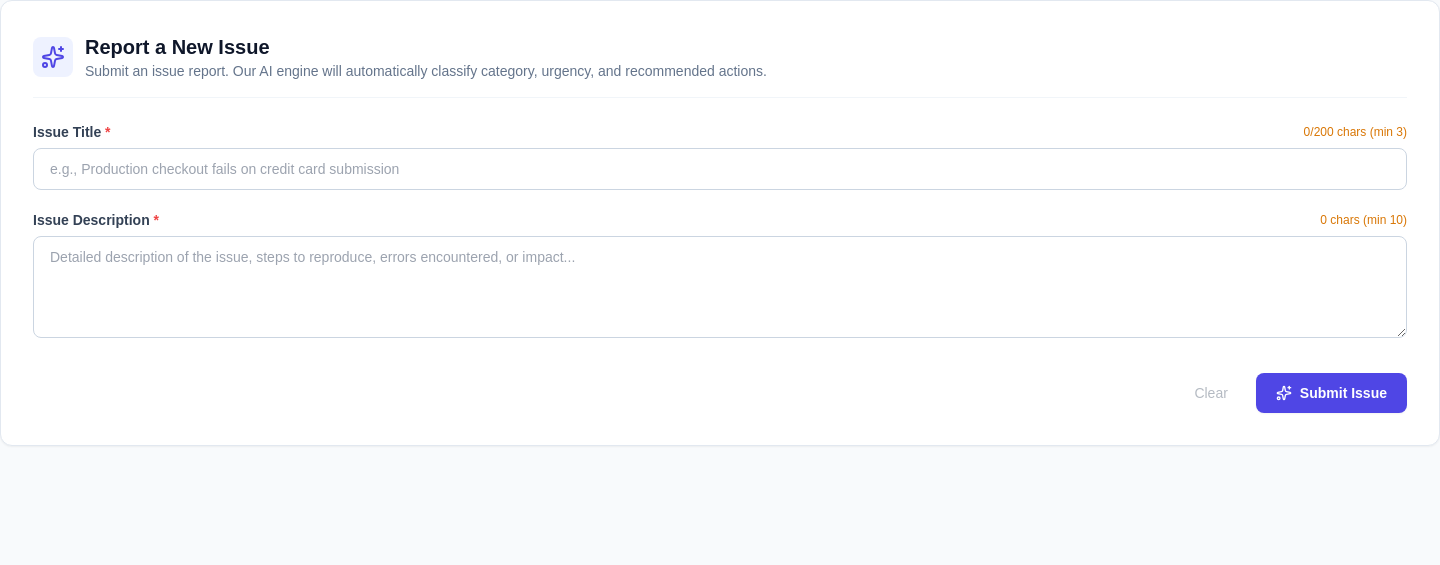
IssueForm Component › displays API error alert when creation fails
This screenshot has width=1440, height=565.
Type "Payment timeout bug" into the field labelled "Issue Title *" at (720, 169), box left=33, top=148, right=1407, bottom=190
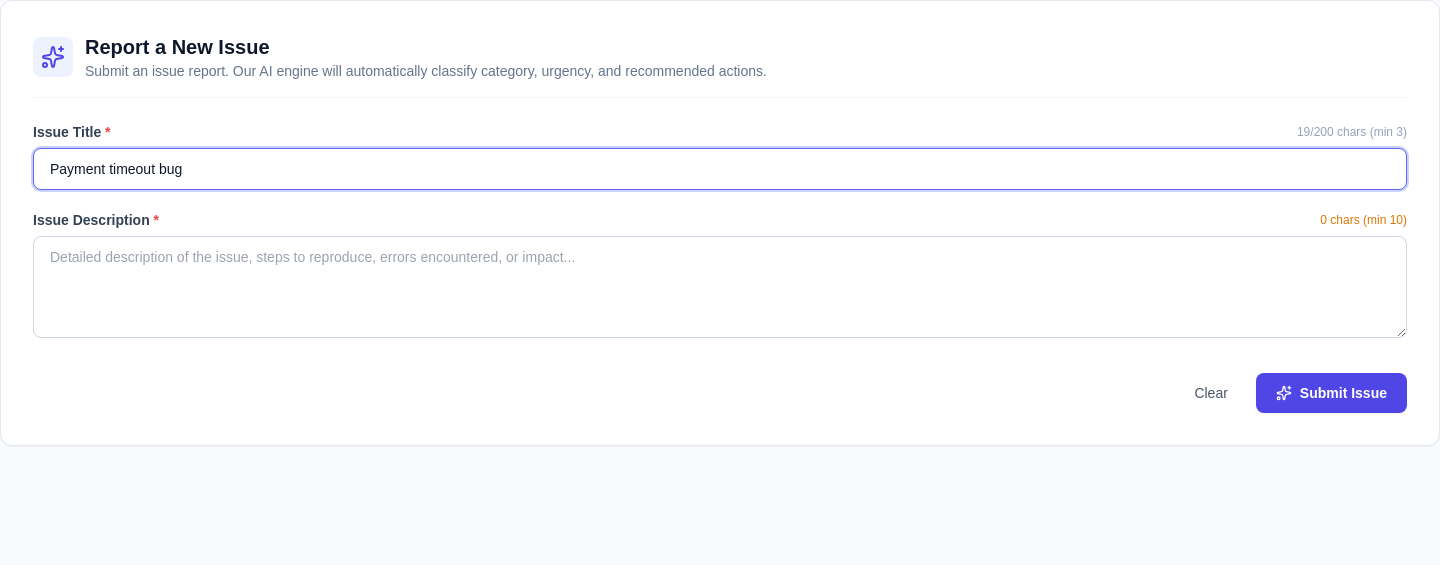
Type "Detailed description of payment timeout bug occurring on checkout" into the text box labelled "Issue Description *" at (720, 287), box left=33, top=236, right=1407, bottom=338
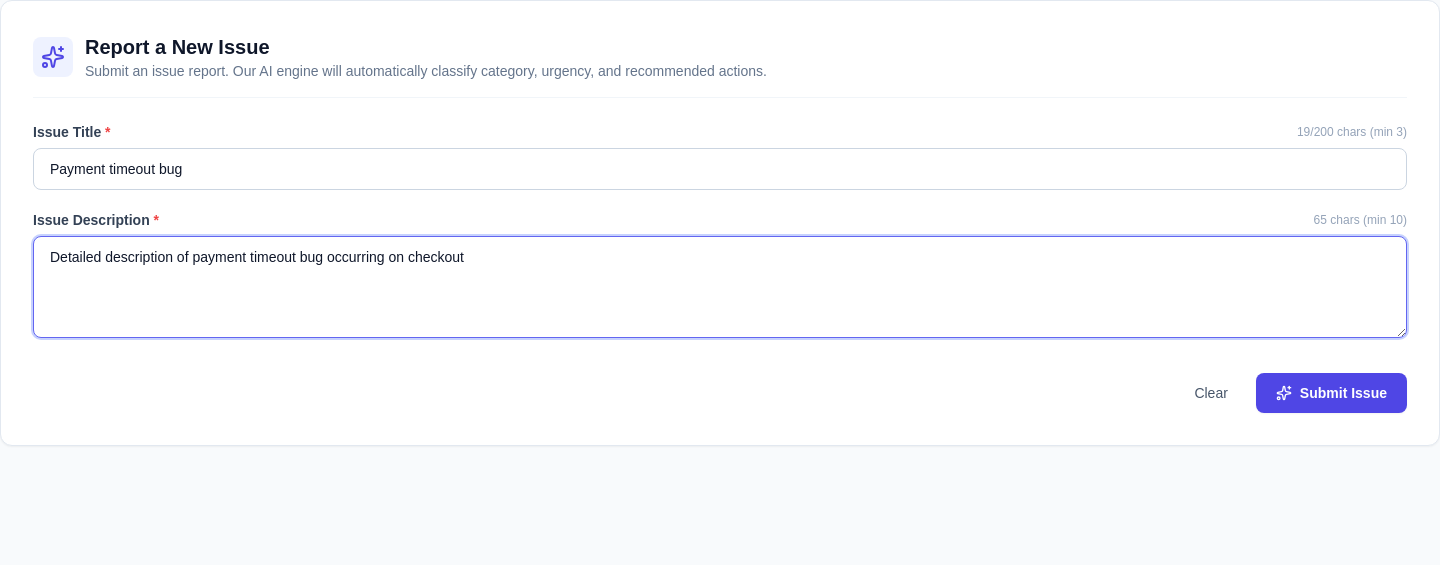
Click the button with test id "submit-issue-button" at (1331, 393), box left=1256, top=373, right=1407, bottom=413
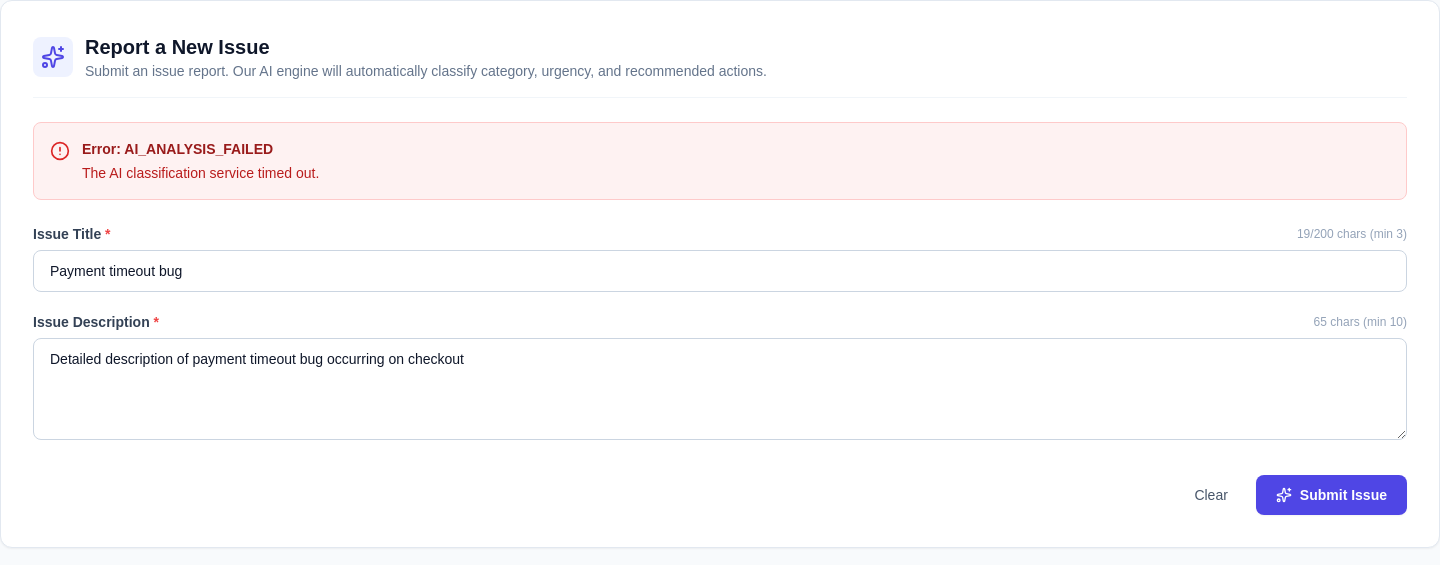
Now the message "Error: AI_ANALYSIS_FAILED The AI classification service timed out." is shown, box left=33, top=122, right=1407, bottom=200
Now the text "The AI classification service timed out." is shown, box left=82, top=163, right=319, bottom=183
